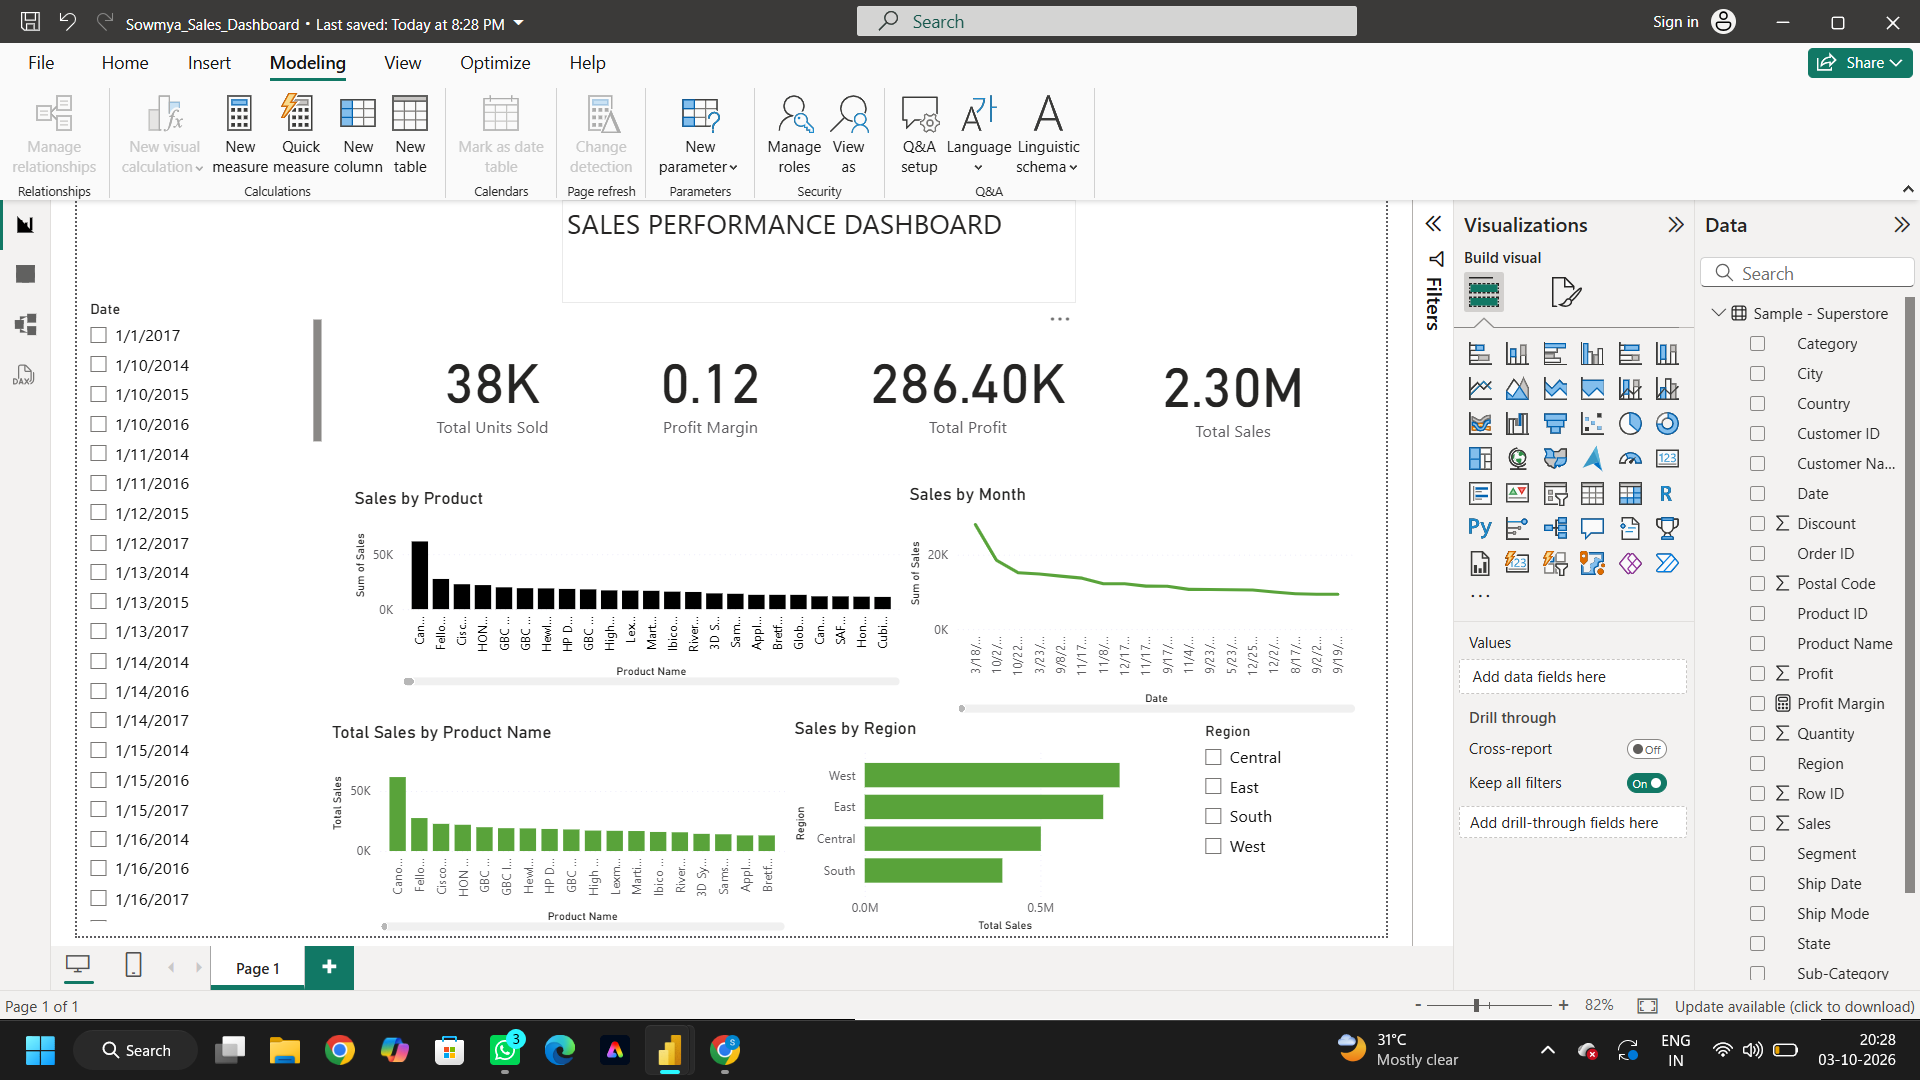

The dashboard page shown, as its layout file describes it:
{"tool":"powerbi","page":{"name":"Page 1","canvas":[1280,720],"ordinal":0},"visuals":[{"type":"card","fields":{"Values":["Sample - Superstore.Total Profit"]},"box":[747.9,93.3,247,181.1],"z":0},{"type":"card","fields":{"Values":["Sample - Superstore.Total Sales"]},"box":[1005.8,100.2,249.7,174.3],"z":1000},{"type":"card","fields":{"Values":["Sample - Superstore.Total Units Sold"]},"box":[286.8,93.3,238.8,181.1],"z":2000},{"type":"card","fields":{"Values":["Sample - Superstore.Profit Margin"]},"box":[491.3,93.3,256.6,181.1],"z":3000},{"type":"clusteredColumnChart","fields":{"Y":["Sample - Superstore.Total Sales"],"Category":["Sample - Superstore.Product Name"]},"box":[244.3,510.5,452.8,209.9],"z":4000},{"type":"clusteredColumnChart","title":"Sales by Product ","fields":{"Category":["Sample - Superstore.Product Name"],"Y":["Sum(Sample - Superstore.Sales)"]},"box":[266.2,281.3,543.4,199],"z":5000},{"type":"clusteredBarChart","title":"Sales by Region","fields":{"Category":["Sample - Superstore.Region"],"Y":["Sample - Superstore.Total Sales"]},"box":[697.1,506.3,367.8,214.1],"z":6000},{"type":"lineChart","title":"Sales by Month","fields":{"Category":["Sample - Superstore.Date"],"Y":["Sum(Sample - Superstore.Sales)"]},"box":[809.6,277.2,446,229.2],"z":7000},{"type":"slicer","fields":{"Values":["Sample - Superstore.Date"]},"box":[0,93.3,244.3,617.5],"z":8000},{"type":"textbox","box":[474.8,0,502.2,100.2],"z":9000},{"type":"slicer","fields":{"Values":["Sample - Superstore.Region"]},"box":[1090.9,506.3,189.4,214.1],"z":10000}]}

Visuals, with their boxes on the page's 1280x720 design canvas (x1, y1, x2, y2). These are canvas units, not pixel positions in the 1920x1080 screenshot, which may show the page scaled, cropped or inside an application window:
card - Sample - Superstore.Total Profit: <region>748, 93, 995, 274</region>
card - Sample - Superstore.Total Sales: <region>1006, 100, 1256, 274</region>
card - Sample - Superstore.Total Units Sold: <region>287, 93, 526, 274</region>
card - Sample - Superstore.Profit Margin: <region>491, 93, 748, 274</region>
clusteredColumnChart - Sample - Superstore.Total Sales x Sample - Superstore.Product Name: <region>244, 510, 697, 720</region>
"Sales by Product " clusteredColumnChart: <region>266, 281, 810, 480</region>
"Sales by Region" clusteredBarChart: <region>697, 506, 1065, 720</region>
"Sales by Month" lineChart: <region>810, 277, 1256, 506</region>
slicer - Sample - Superstore.Date: <region>0, 93, 244, 711</region>
textbox: <region>475, 0, 977, 100</region>
slicer - Sample - Superstore.Region: <region>1091, 506, 1280, 720</region>
